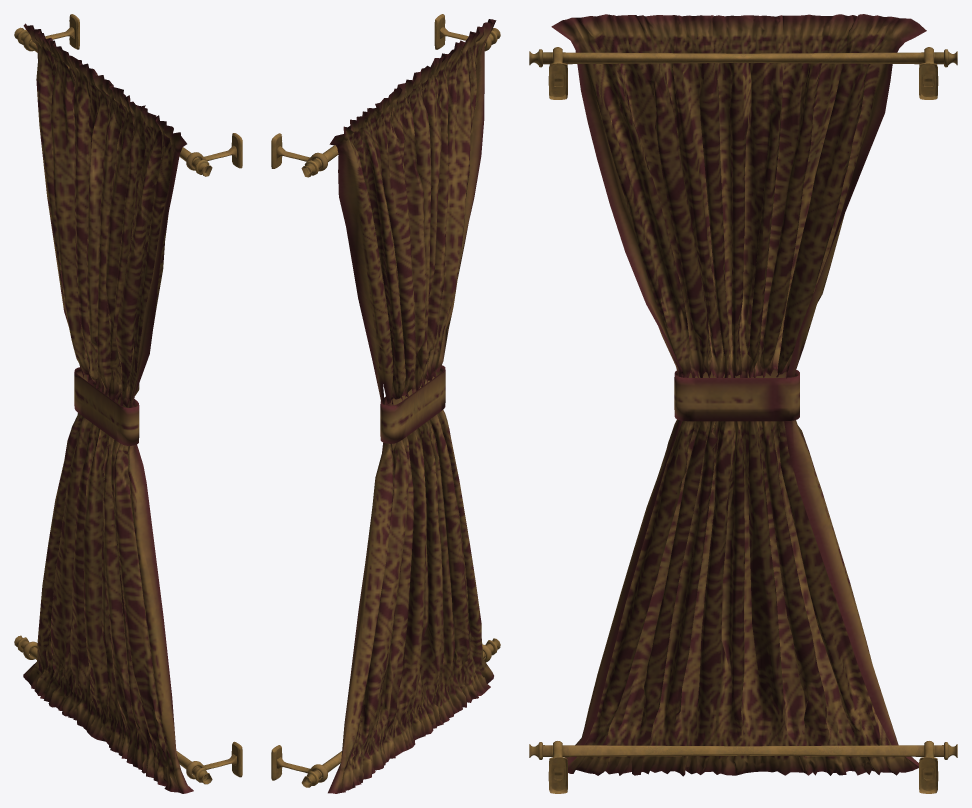
Rendered from SM_CurtainButterfly_Guard.fbx.
The picture shows the model from 3 angles, left to right: view 1: azimuth 30°, elevation 25°; view 2: azimuth 150°, elevation 25°; view 3: azimuth 270°, elevation 25°; orthographic projection. The views are drawn at different scales.
Parts seen in each view (by area): view 1: SM_CurtainButterfly_Guard_LOD0; view 2: SM_CurtainButterfly_Guard_LOD0; view 3: SM_CurtainButterfly_Guard_LOD0.
Part boxes in pixels (x1,y1,x2,y2): SM_CurtainButterfly_Guard_LOD0: [14, 14, 242, 793]; SM_CurtainButterfly_Guard_LOD0: [271, 14, 500, 793]; SM_CurtainButterfly_Guard_LOD0: [529, 14, 957, 793].
Size of the model in its own units: 42.77 by 197 by 386.
Materials: 1 (1 with a texture image).
